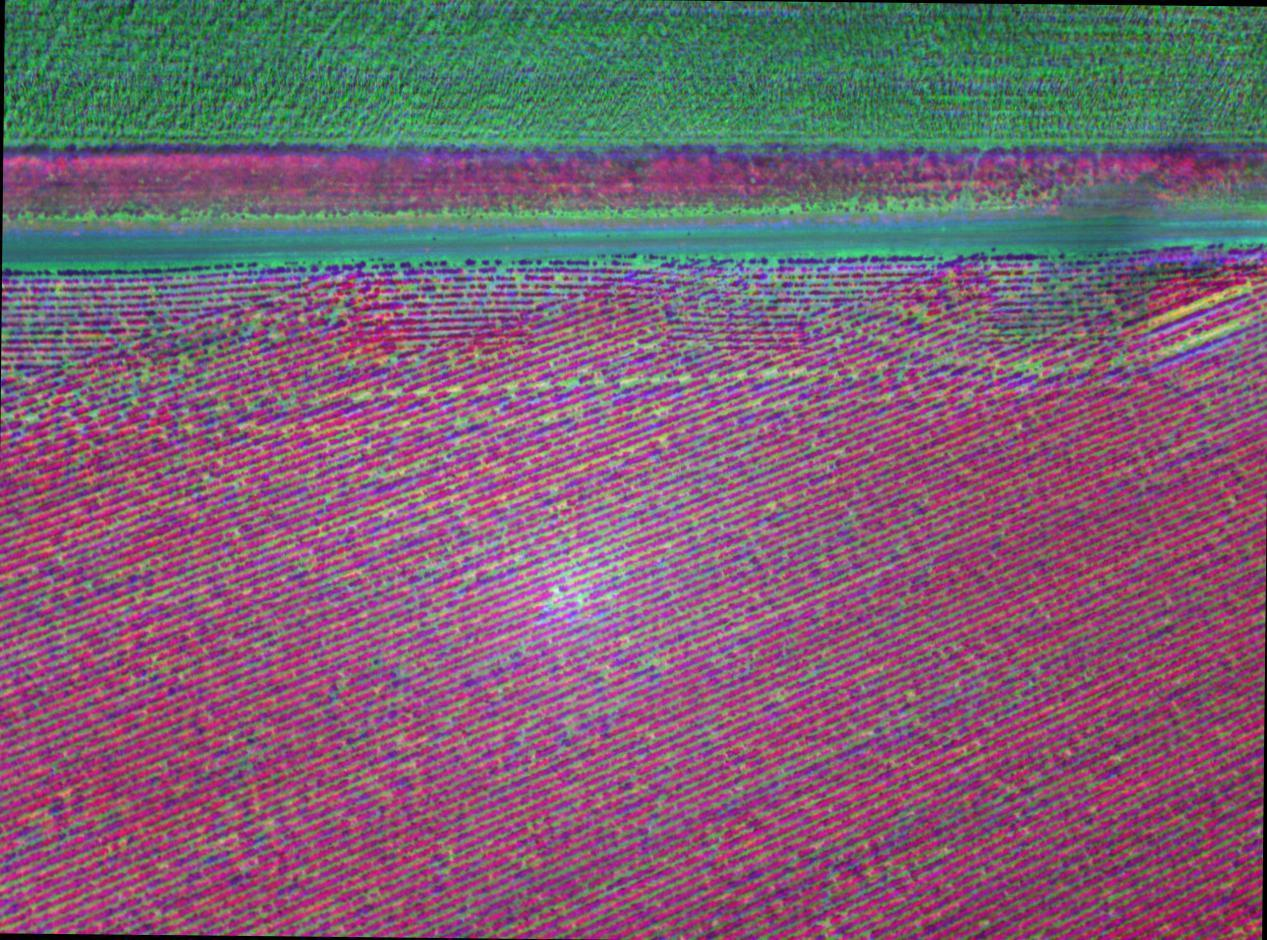dc: (356, 394, 365, 401), (567, 380, 575, 387), (767, 370, 773, 377), (552, 587, 557, 592), (446, 716, 451, 720), (693, 522, 697, 526), (812, 447, 815, 451), (1109, 897, 1113, 900)
